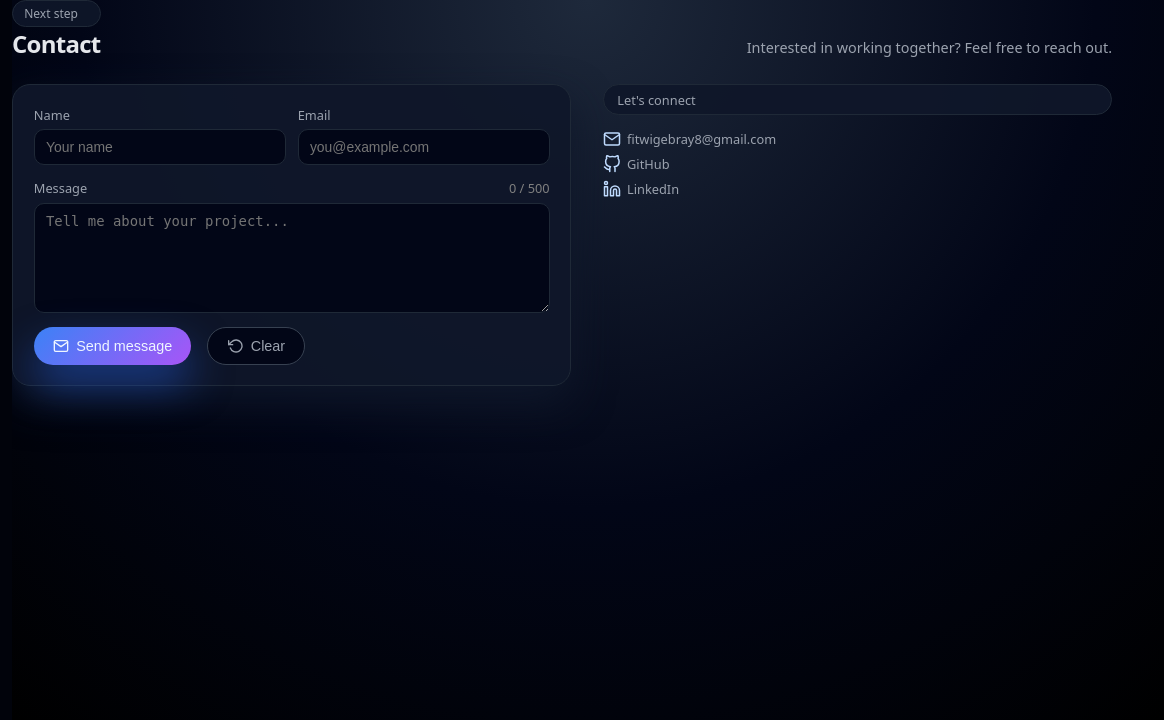
Contact Component › submit button is disabled and shows 'Sending...' during submission
This screenshot has width=1164, height=720.
Note: Fill out form
Step 1. Type "Fitwi" into the field with placeholder "Your name" → (160, 147), box [34, 129, 286, 165]
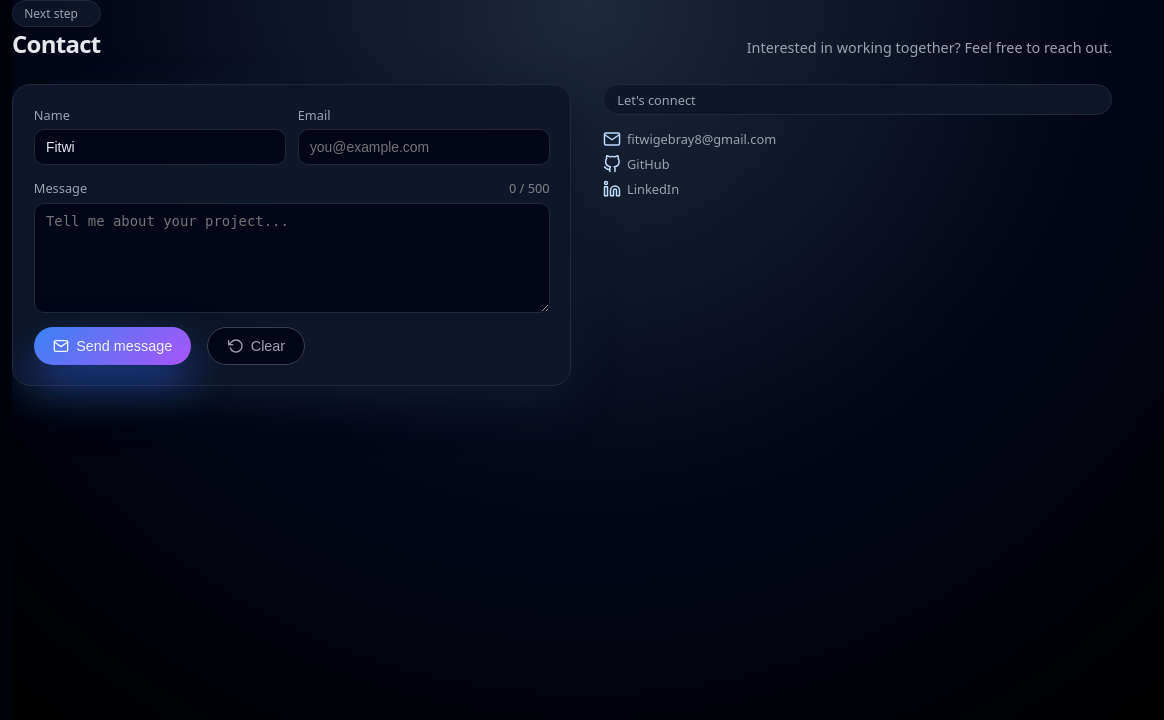
Step 2. Type "test@test.com" into the field with placeholder "you@example.com" → (424, 147), box [298, 129, 550, 165]
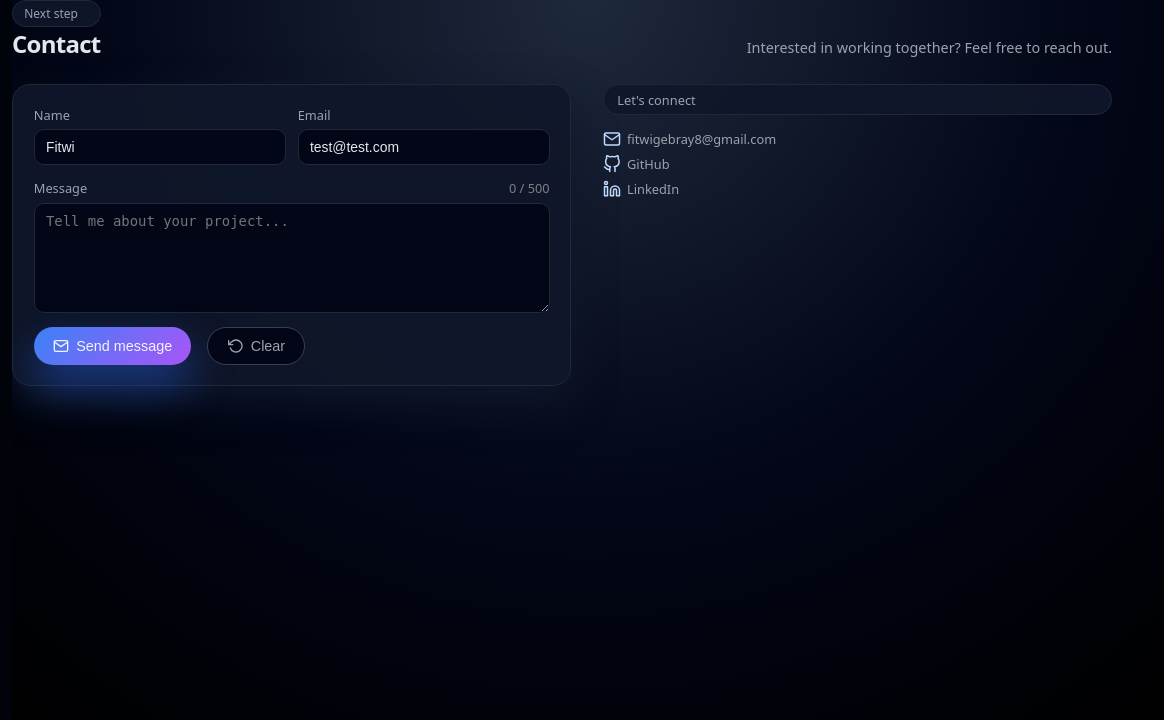
Step 3. Type "Test message" into the text box with placeholder "Tell me about your project..." → (292, 258), box [34, 203, 550, 313]
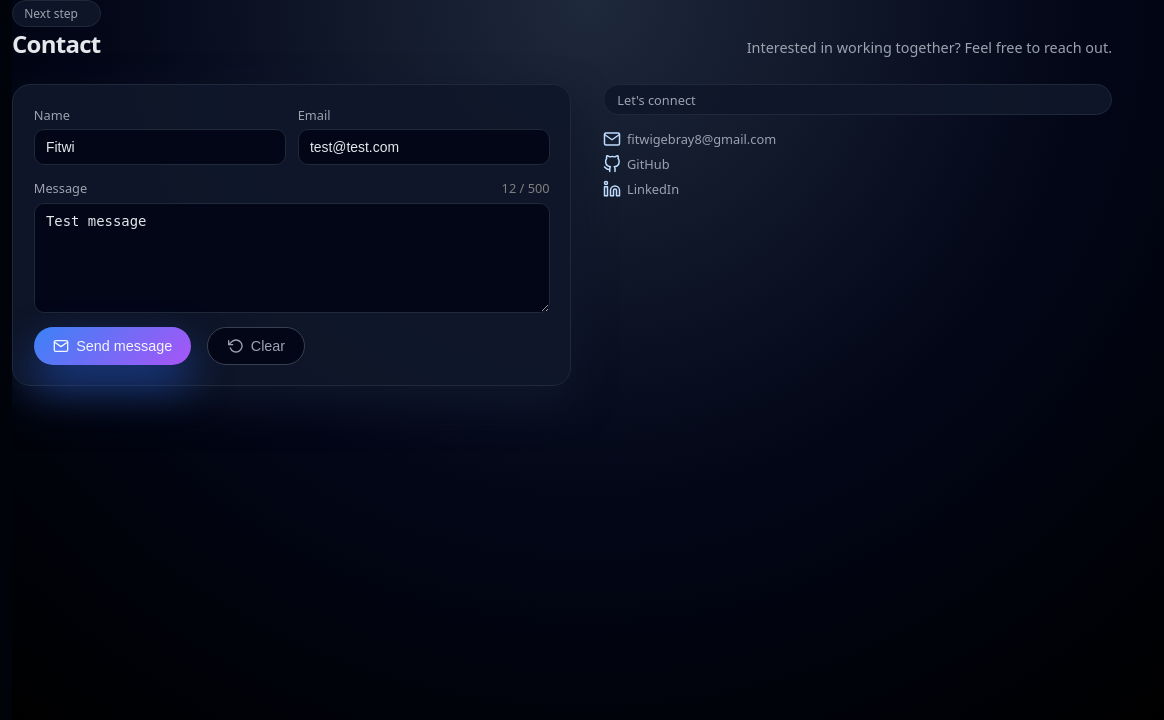
Note: Click submit
Step 4. Click the button "Send message" → (113, 346), box [34, 327, 191, 365]
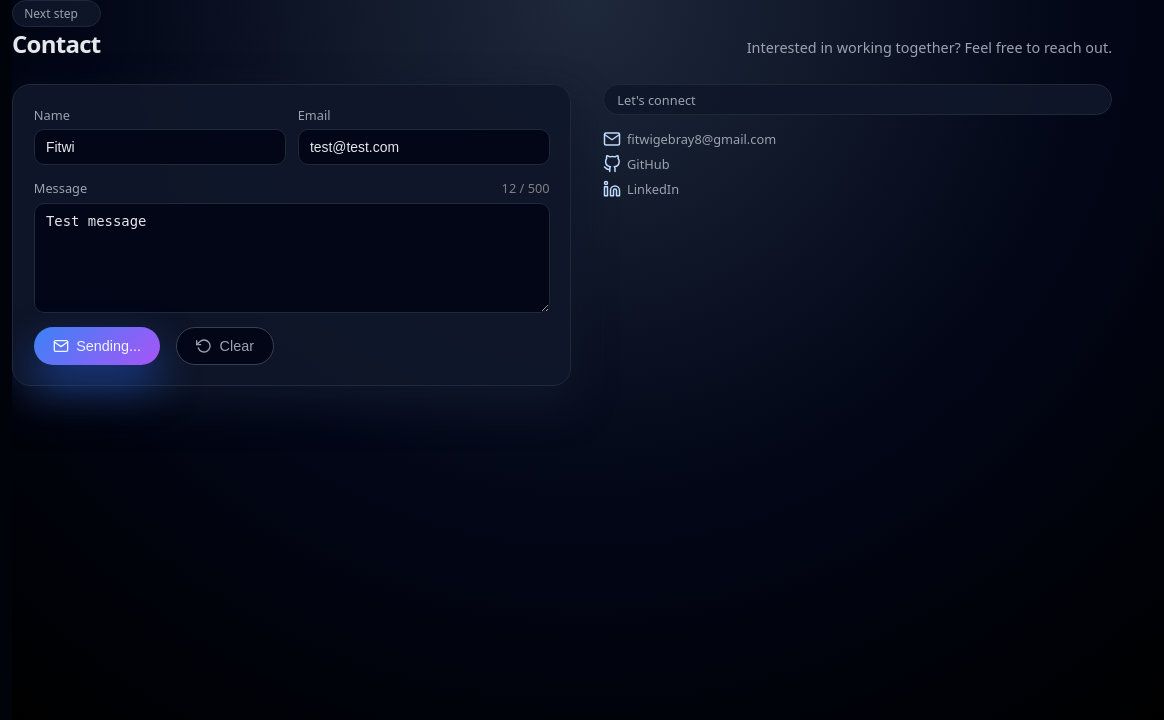
Check: the button named "send message" is disabled, box [34, 327, 160, 365]
Check: the text "Sending..." is shown, box [76, 338, 141, 354]
